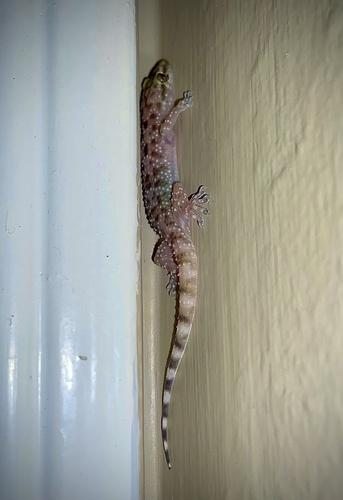lizard: (118, 48, 217, 470)
